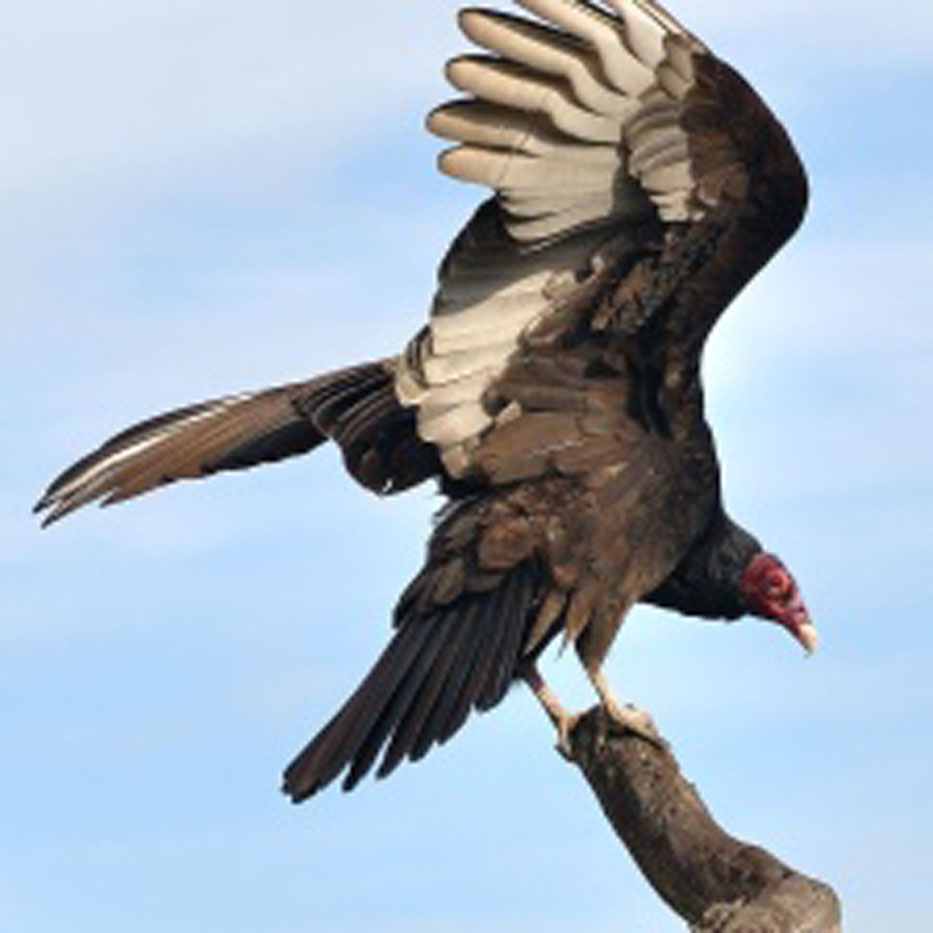Pengoyak Daging: (783, 622, 827, 667)
